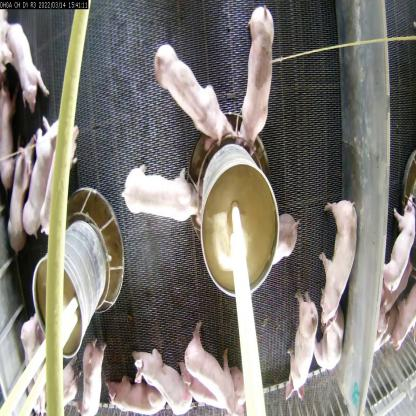Pig: (148, 24, 234, 141), (179, 321, 244, 415), (24, 118, 68, 248), (321, 200, 362, 331), (239, 7, 276, 150), (117, 166, 200, 225), (131, 346, 198, 415), (44, 124, 92, 216), (281, 294, 319, 400), (0, 140, 36, 243), (7, 22, 51, 104), (103, 366, 169, 416), (190, 373, 246, 415), (79, 342, 106, 415), (312, 319, 348, 368), (268, 212, 299, 263)
